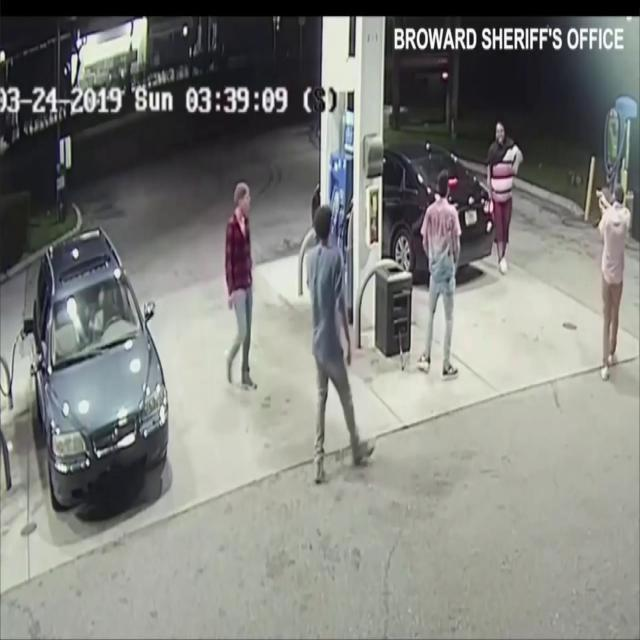weapon: (591, 182, 605, 198)
